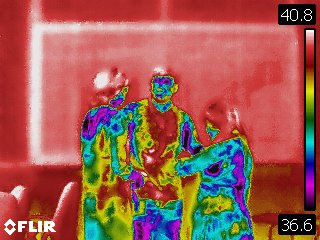human: (119, 66, 201, 240), (77, 65, 145, 240), (176, 101, 257, 240)
